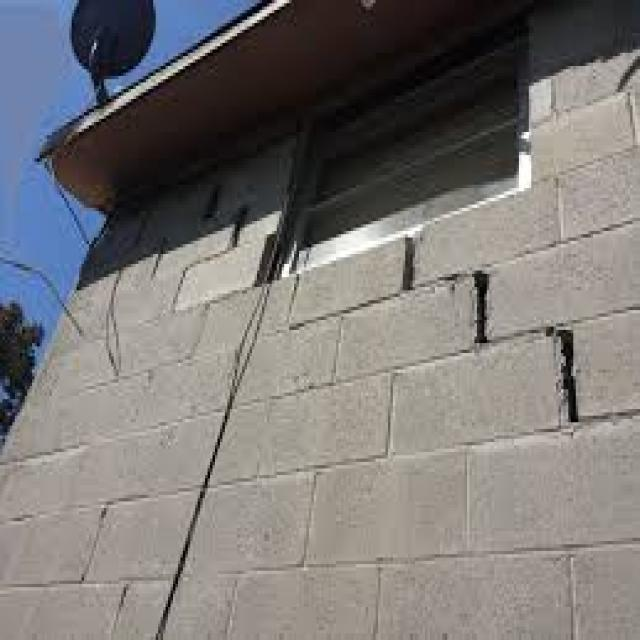Crack: (398, 231, 637, 425)
